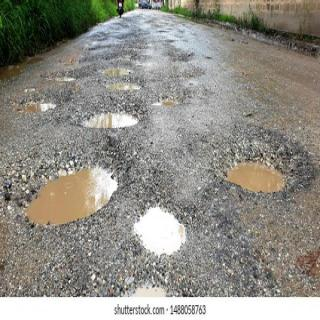pothole: (19, 147, 133, 234), (203, 127, 313, 209), (127, 198, 192, 258), (73, 104, 143, 134), (21, 96, 58, 115)
